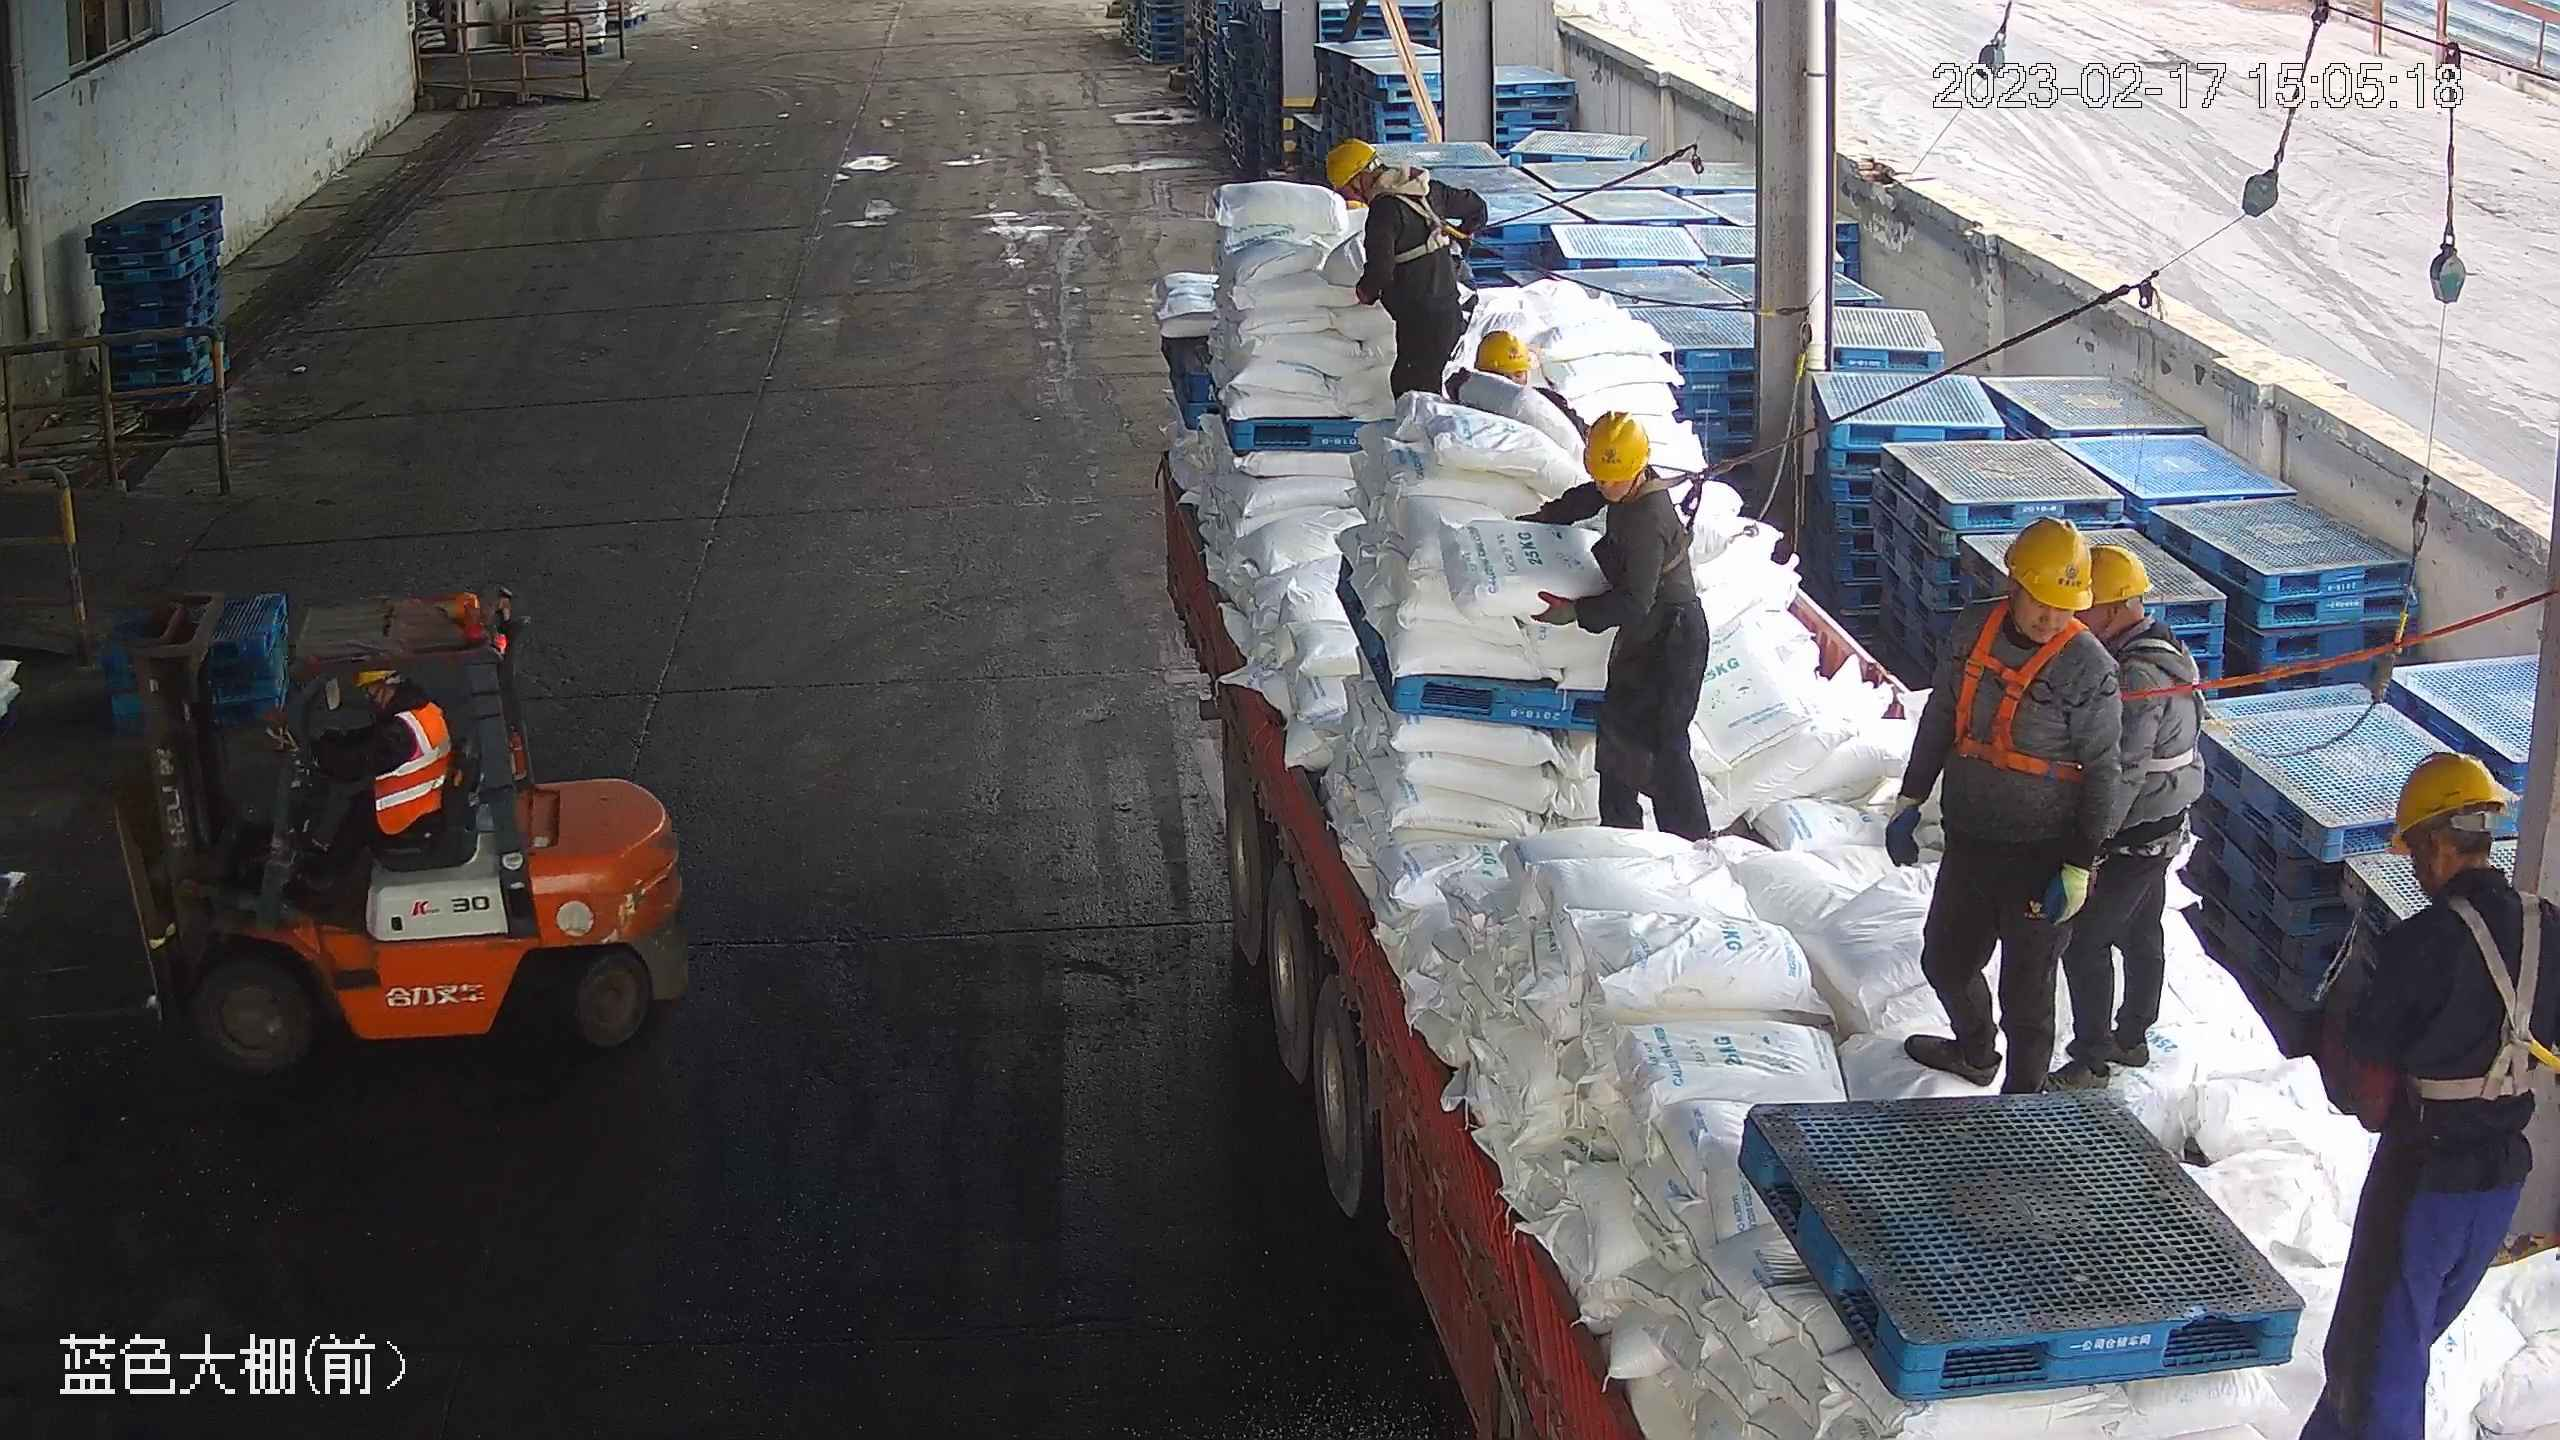belt: (1939, 605, 2093, 778), (2102, 624, 2227, 757), (1595, 468, 1713, 574), (1377, 176, 1462, 264)
head: (2355, 747, 2551, 1000), (1944, 515, 2120, 694), (2068, 536, 2198, 696), (1563, 403, 1692, 540), (1325, 140, 1463, 234)
helmet: (2382, 749, 2504, 854), (2003, 519, 2104, 613), (1576, 406, 1652, 482), (2076, 539, 2155, 608), (1322, 136, 1382, 198), (1469, 325, 1534, 377)
people: (2303, 750, 2556, 1429), (1887, 515, 2133, 1104), (1517, 404, 1726, 842), (2067, 523, 2202, 1083), (1331, 131, 1479, 404), (288, 665, 456, 894)
truck: (1160, 421, 2551, 1434)
